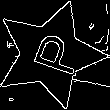P_W: (19, 28, 81, 81)
